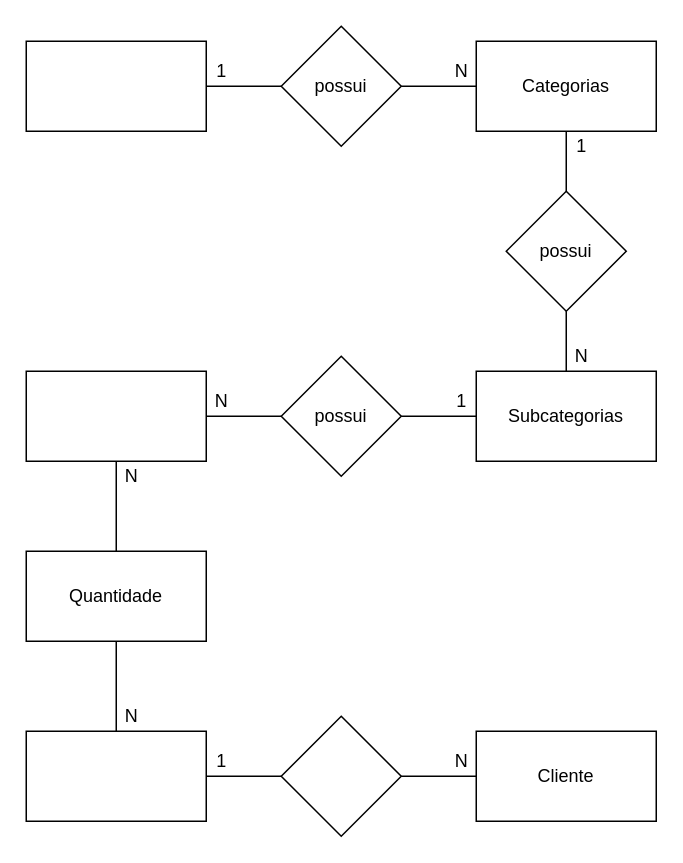
Image size: 683x863. Some labels were removed from this diagram. The shapes that lost their labels are listed below. From the top down, each one's centre as x and y in pixels, then its label:
(115,85): Lojas
(115,415): Produto
(115,775): Pedido
(340,775): faz
